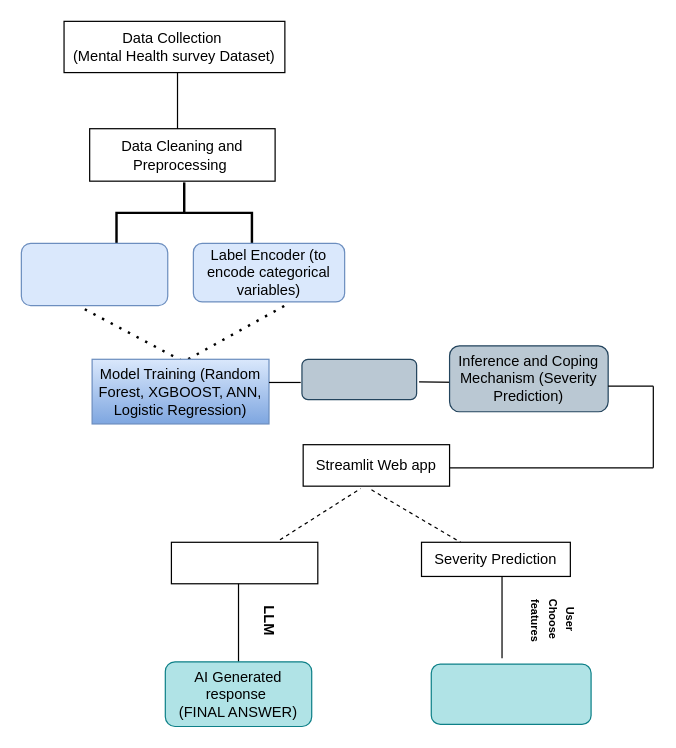
This 676x748 diagram has some shape labels left out. The centre of each missing label's shape, as x and y in pixels:
"Explanation and Coping Mechanism suggestions" belongs at point (510, 693).
"Exploratory Data Analysis, Outlier Removal" belongs at point (94, 274).
"Save the model" belongs at point (359, 379).
"User Input Question" belongs at point (244, 562).
